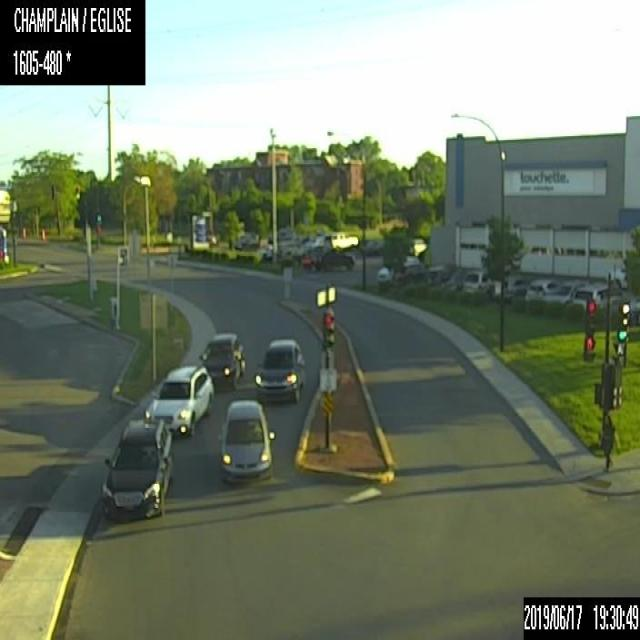pedestrian: (599, 413, 619, 471)
vehicle: (100, 419, 174, 521), (144, 363, 213, 437), (217, 399, 275, 483), (254, 334, 304, 406), (197, 332, 246, 389), (571, 282, 625, 309), (378, 254, 422, 284), (303, 244, 354, 268), (545, 281, 584, 305), (487, 275, 526, 299), (524, 278, 558, 302), (323, 230, 358, 252), (462, 269, 493, 293), (441, 270, 464, 292), (234, 231, 259, 249), (362, 236, 382, 254), (268, 227, 295, 240), (304, 233, 325, 248), (629, 298, 639, 324)
